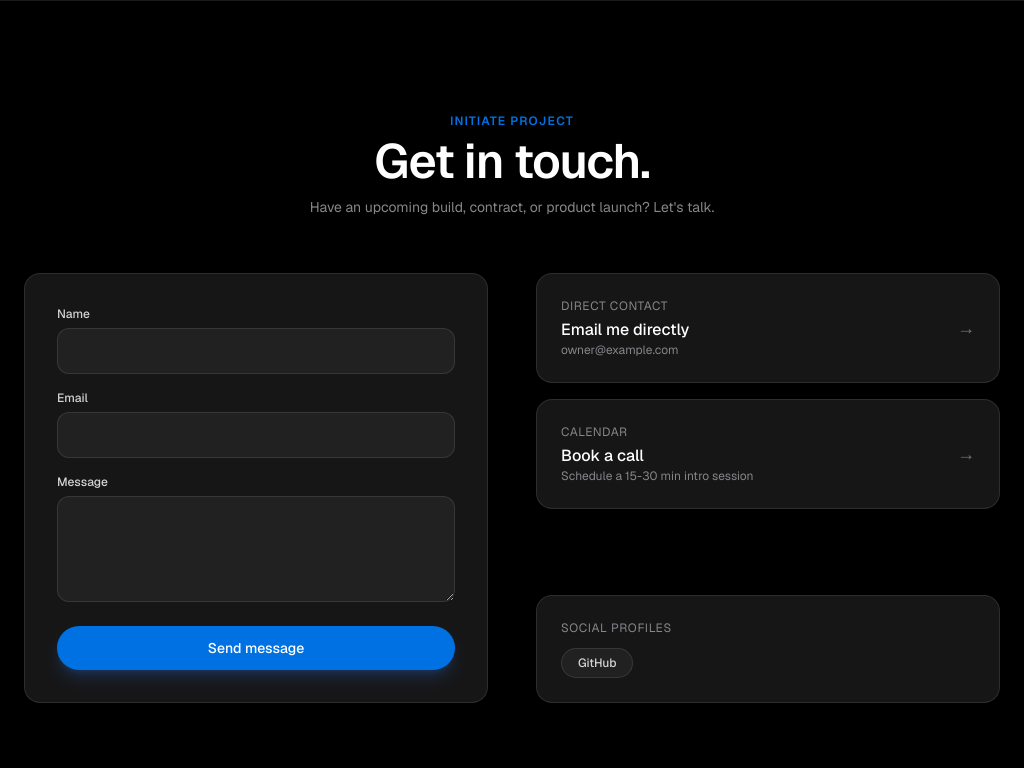
AppleContact › submits the form to /api/contact and shows a success message
Type "Jane" into the field labelled "Name" at (256, 351), box [57, 328, 455, 374]
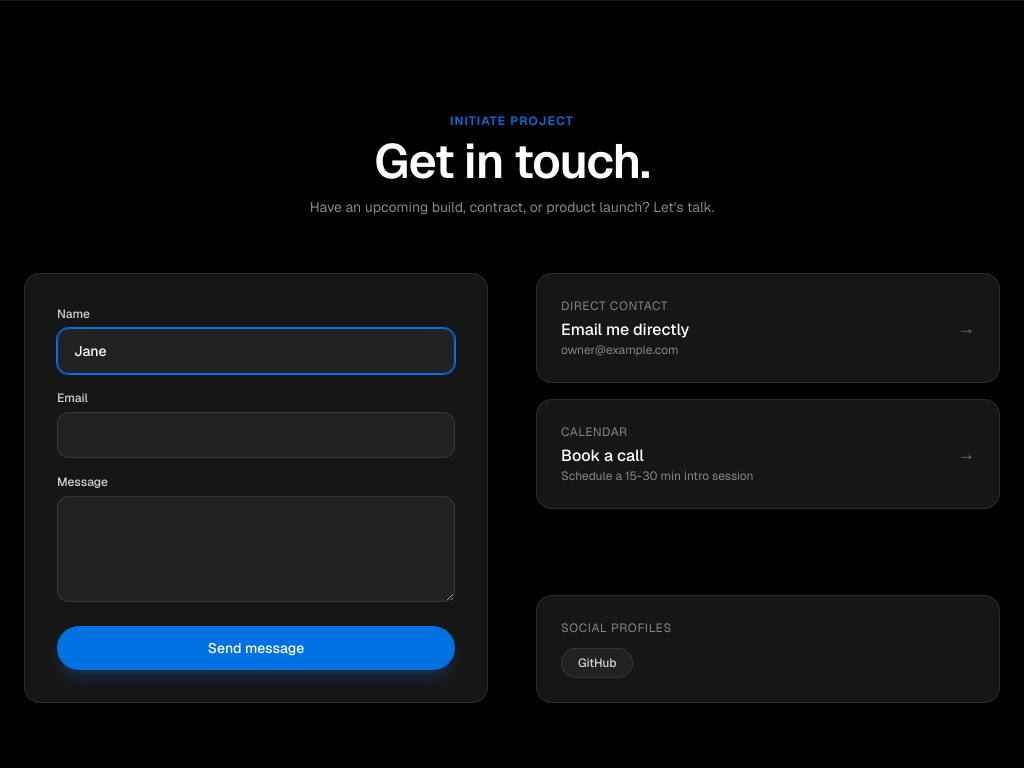
Type "jane@example.com" into the field labelled "Email" at (256, 435), box [57, 412, 455, 458]
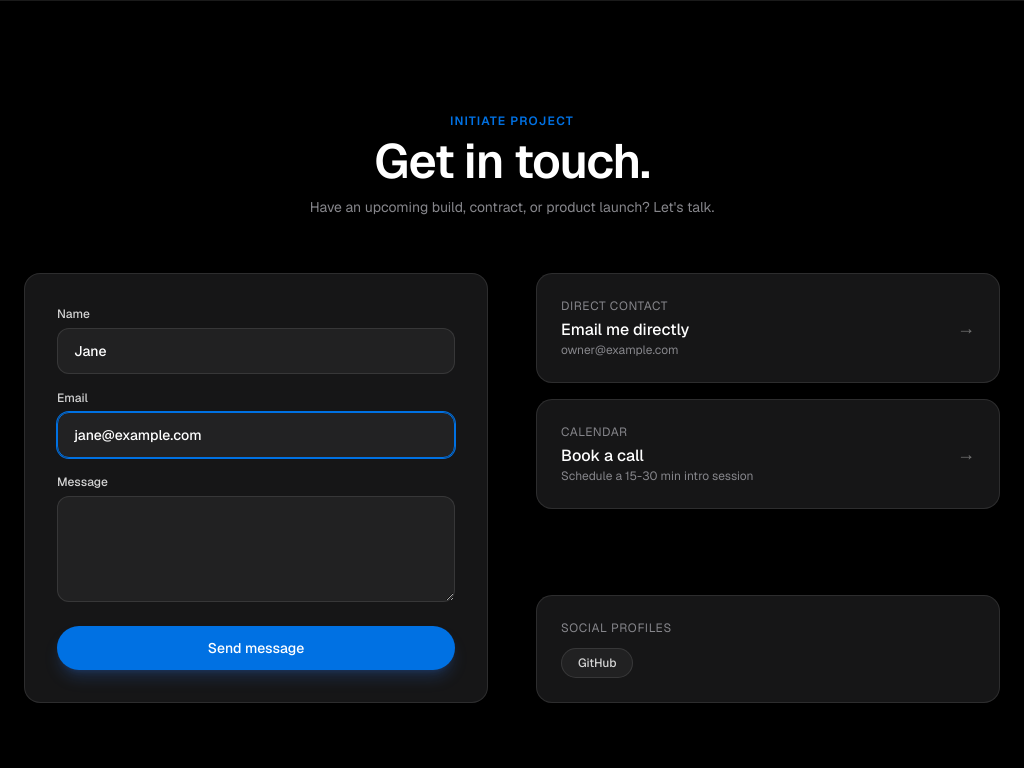
Type "Hello there" into the text box labelled "Message" at (256, 549), box [57, 496, 455, 602]
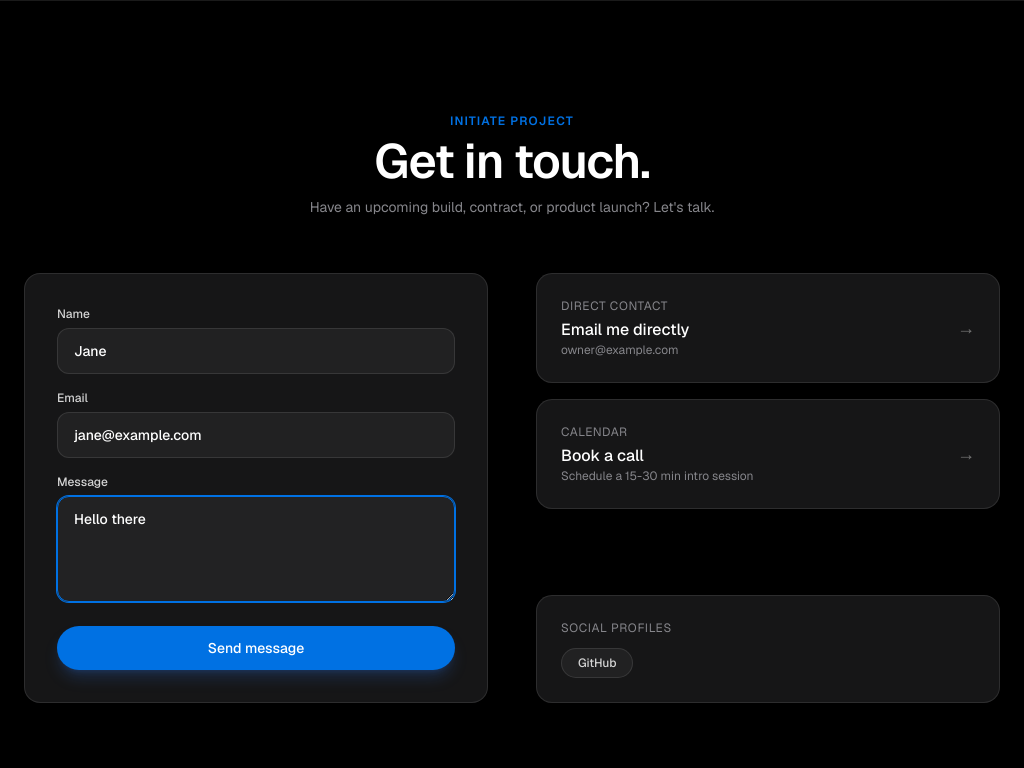
Click the button "Send message" at (256, 648), box [57, 626, 455, 670]
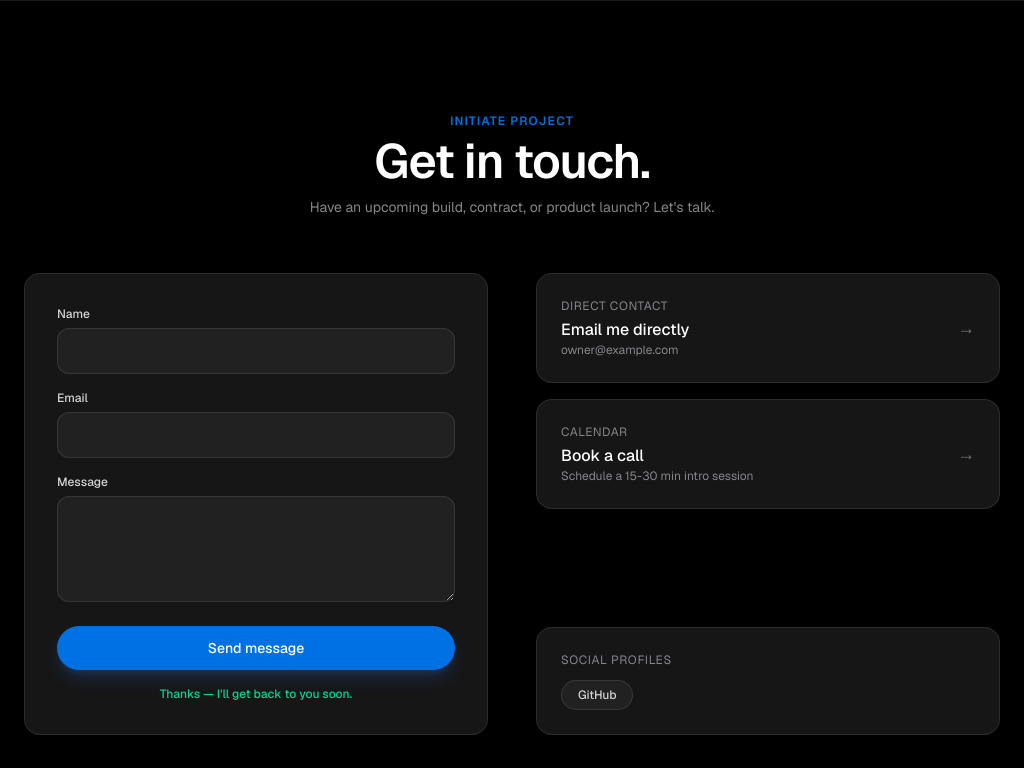
Check: the text "Thanks — I'll get back to you soon." is shown, box [160, 686, 352, 702]
